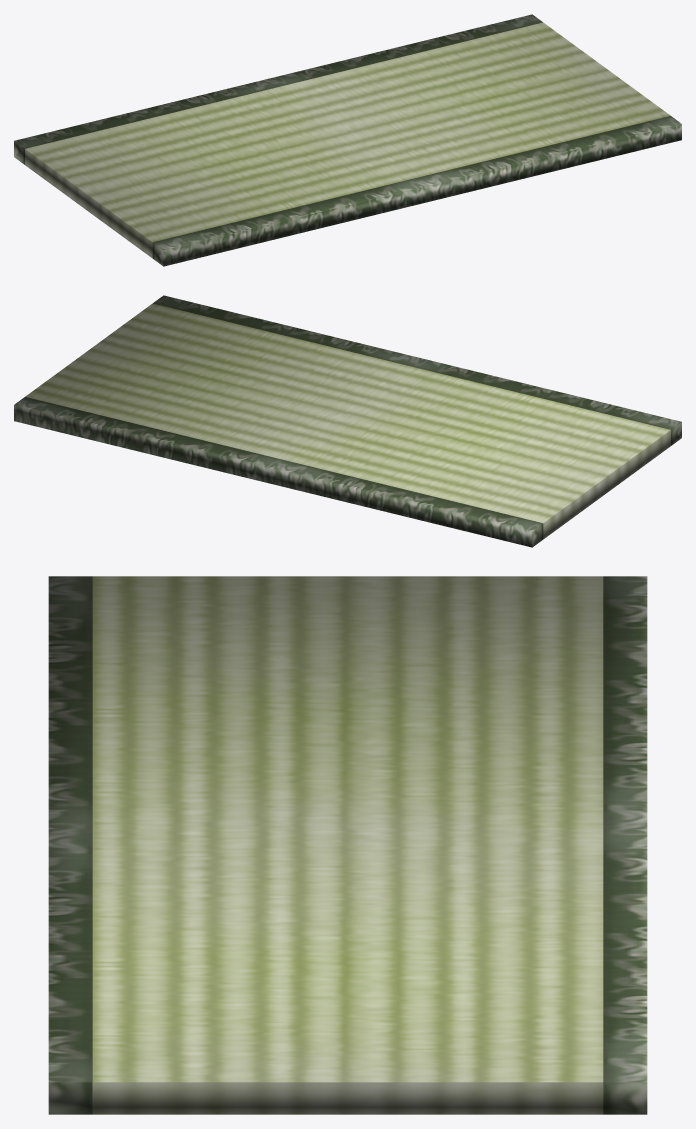
The model's file is JapaneseTatami2_HD.fbx.
3 renders of one model, top to bottom at view 1: azimuth 30°, elevation 25°; view 2: azimuth 150°, elevation 25°; view 3: azimuth 270°, elevation 25°, orthographic. The views are drawn at different scales.
Parts seen in each view (by area): view 1: JapaneseTatami2; view 2: JapaneseTatami2; view 3: JapaneseTatami2.
Part boxes in pixels (<box>): JapaneseTatami2: <box>14,14,681,266</box>; JapaneseTatami2: <box>14,295,681,547</box>; JapaneseTatami2: <box>48,576,647,1114</box>.
Bounding box in the file's own units: 2 × 0.06 × 1.
